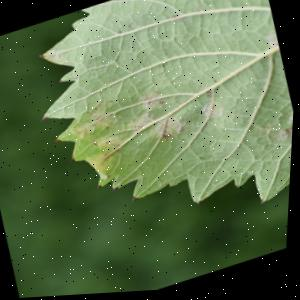Folha: (10, 0, 300, 266)
Fungo: (40, 25, 298, 221), (84, 69, 230, 166), (122, 89, 171, 132), (83, 96, 123, 134), (153, 112, 191, 144), (96, 132, 128, 154), (198, 100, 227, 124), (125, 110, 156, 132), (138, 89, 166, 112), (273, 122, 294, 144), (262, 32, 279, 51), (274, 129, 294, 143), (199, 103, 213, 117), (132, 196, 141, 202), (116, 29, 123, 35), (97, 183, 104, 189), (104, 174, 111, 179)
